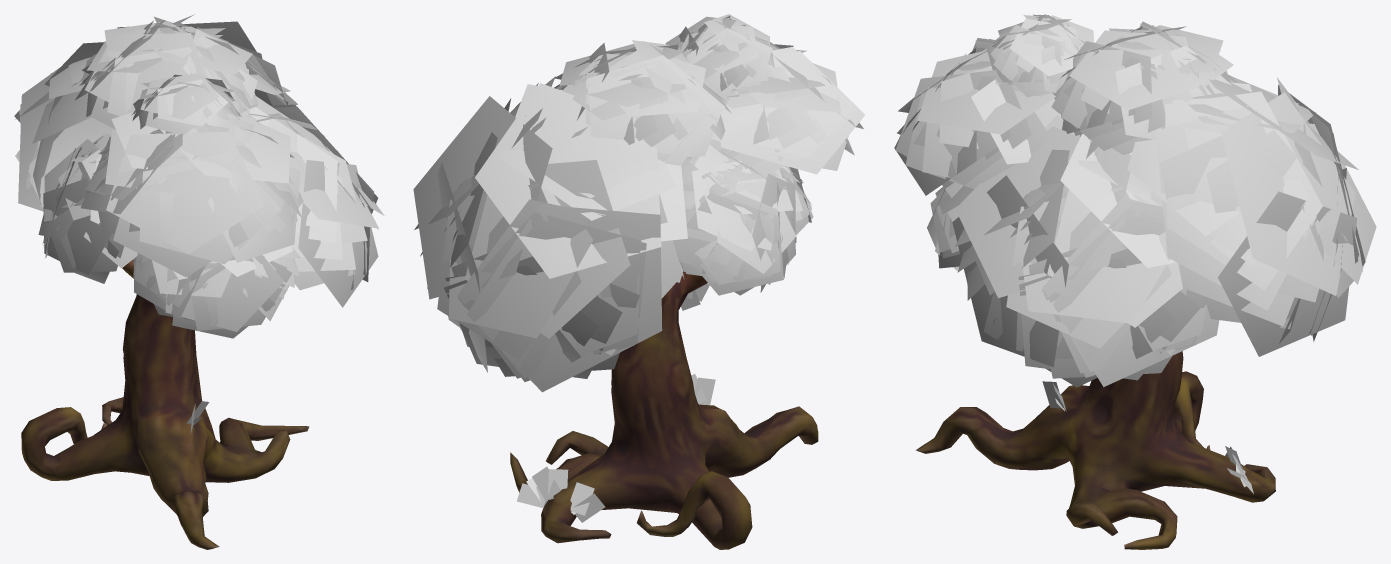
The model's file is TrunkMAIN.fbx.
The picture shows the model from 3 angles, left to right: view 1: azimuth 30°, elevation 25°; view 2: azimuth 150°, elevation 25°; view 3: azimuth 270°, elevation 25°; orthographic projection. The views are drawn at different scales.
Parts seen in each view (by area): view 1: Circle.011, Circle.012; view 2: Circle.011, Circle.012, Circle.015; view 3: Circle.011, Circle.012.
Boxes of the visible parts, bbox=[...] form: Circle.011: bbox=[14, 14, 384, 338]; Circle.012: bbox=[21, 260, 309, 549]; Circle.011: bbox=[413, 14, 864, 392]; Circle.012: bbox=[510, 271, 818, 549]; Circle.015: bbox=[516, 283, 709, 522]; Circle.011: bbox=[894, 14, 1376, 387]; Circle.012: bbox=[916, 351, 1275, 549].
Size of the model in its own units: 343 by 456 by 428.
2 materials, 1 textured.
